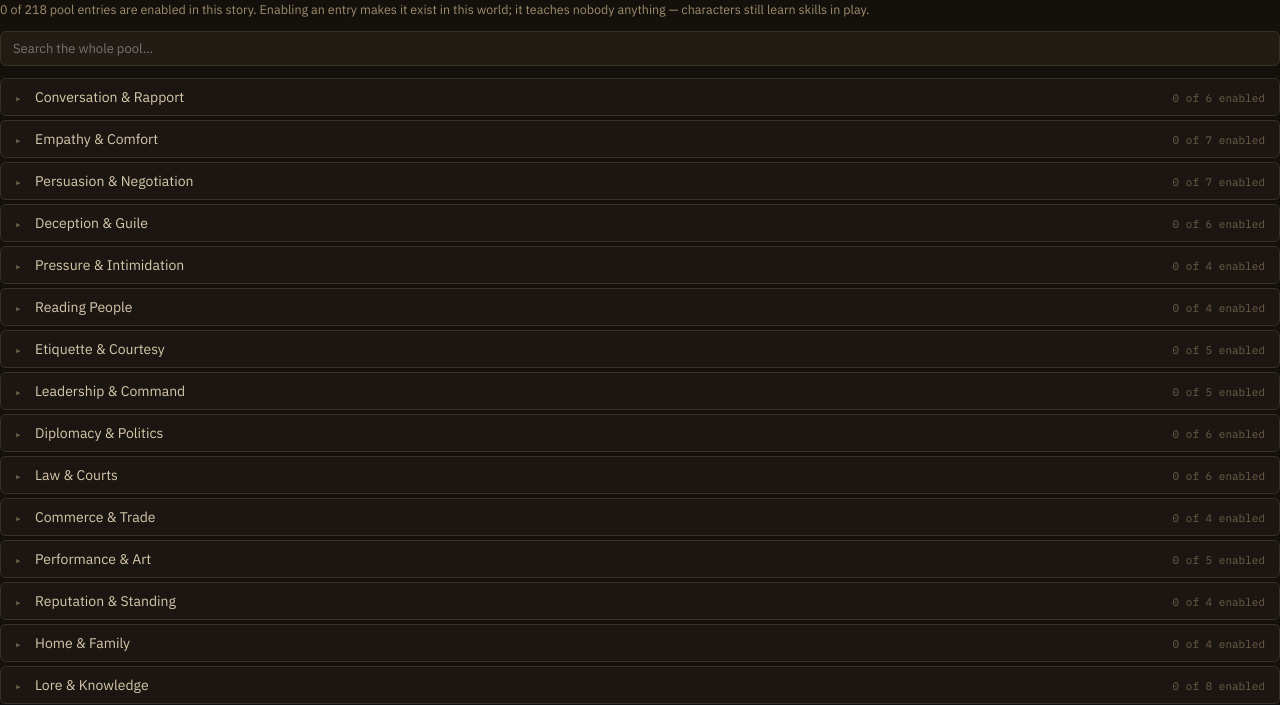
Test case: PoolBrowser › enables and disables through the bridge, updating the row, the counts and the caller
The image size is (1280, 705).
Click the button "▸ Persuasion & Negotiation 0 of 7 enabled" at (114, 181), box [1,163,1279,199]
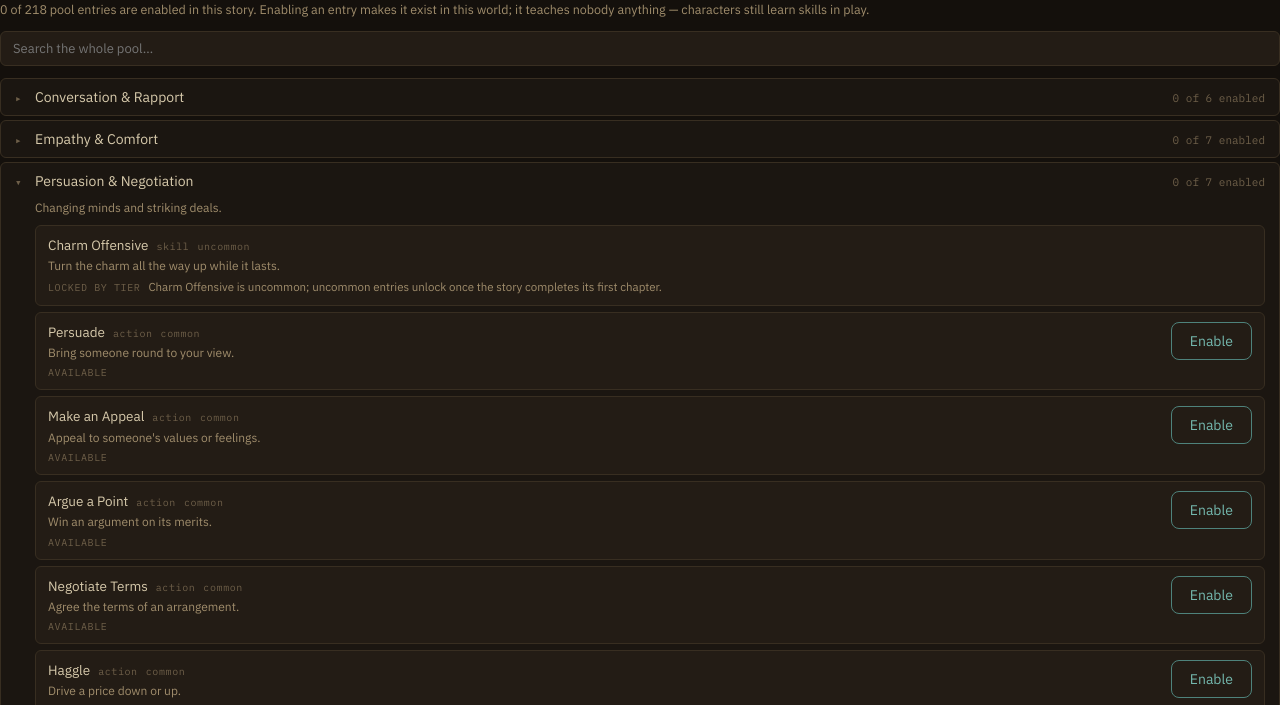
Click the button with aria-label "Enable Persuade" at (1211, 341), box [1171,322,1252,360]
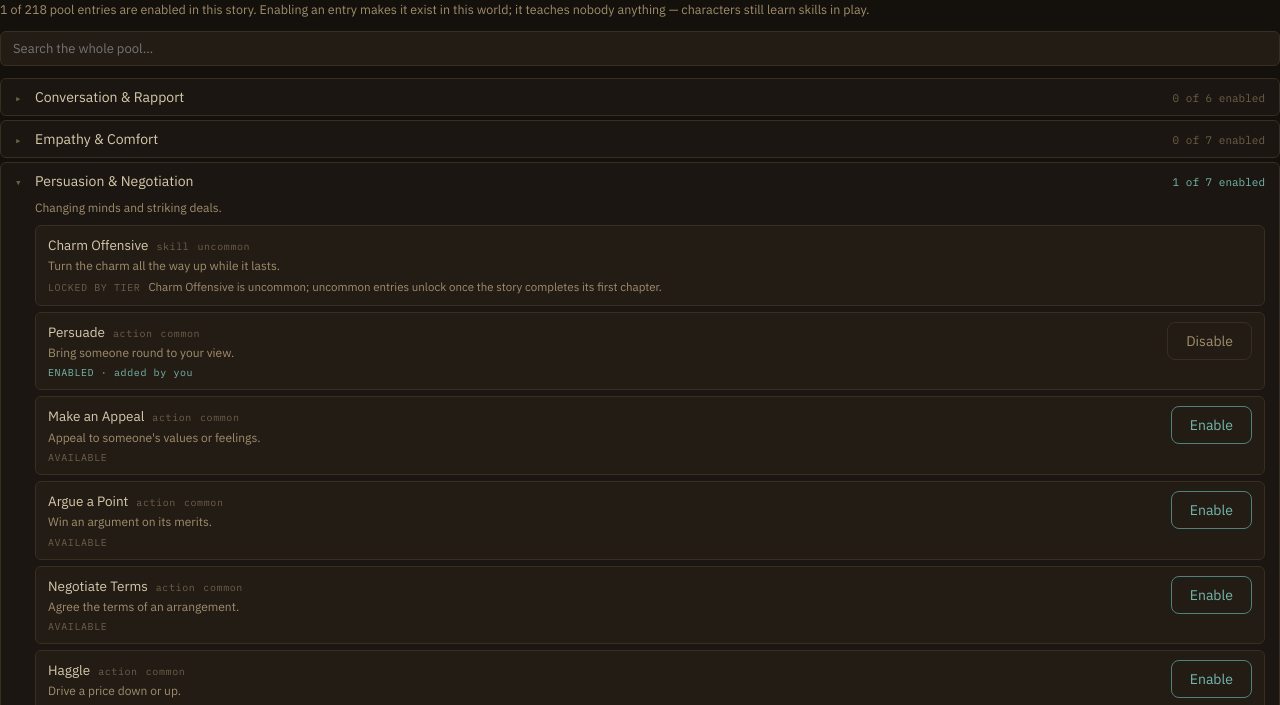
Result: the text "ENABLED · added by you" is shown at [48,365,193,380]
Result: the button "▾ Persuasion & Negotiation 1 of 7 enabled" is shown at [1,163,1279,199]
Click the button with aria-label "Disable Persuade" at (1210, 341), box [1167,322,1252,360]
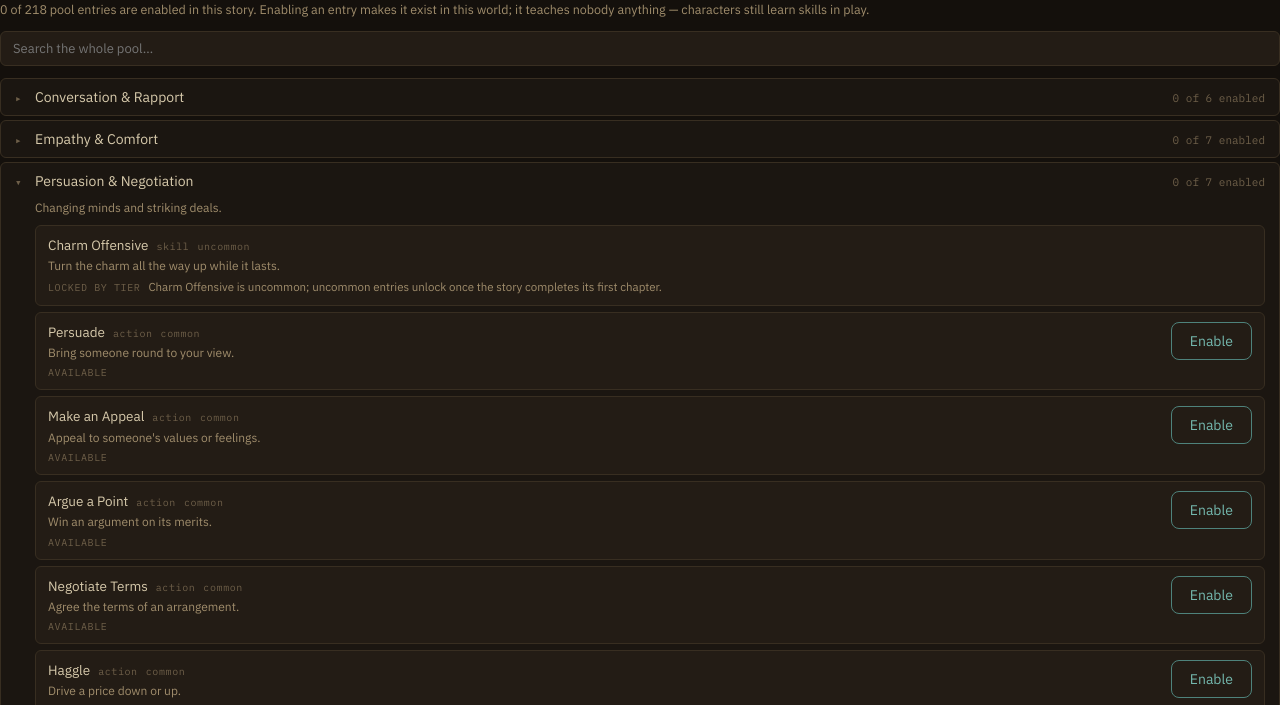
Result: the button "▾ Persuasion & Negotiation 0 of 7 enabled" is shown at [1,163,1279,199]
